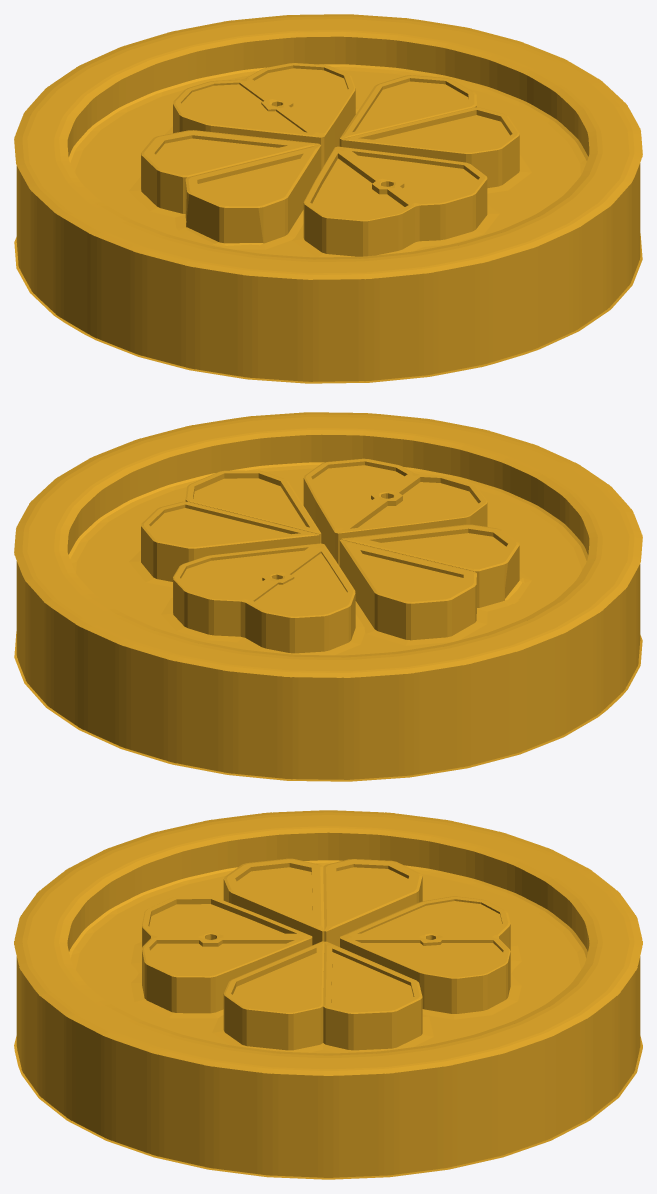
Rendered from COINd.fbx.
The picture shows the model from 3 angles, top to bottom: view 1: azimuth 30°, elevation 25°; view 2: azimuth 150°, elevation 25°; view 3: azimuth 270°, elevation 25°; orthographic projection.
Visible parts, largest first — view 1: Cylinder; view 2: Cylinder; view 3: Cylinder.
Part boxes in pixels (<box>): Cylinder: <box>14,14,642,383</box>; Cylinder: <box>14,412,642,781</box>; Cylinder: <box>14,810,642,1179</box>.
Bounding box in the file's own units: 1111 × 219 × 1111.
